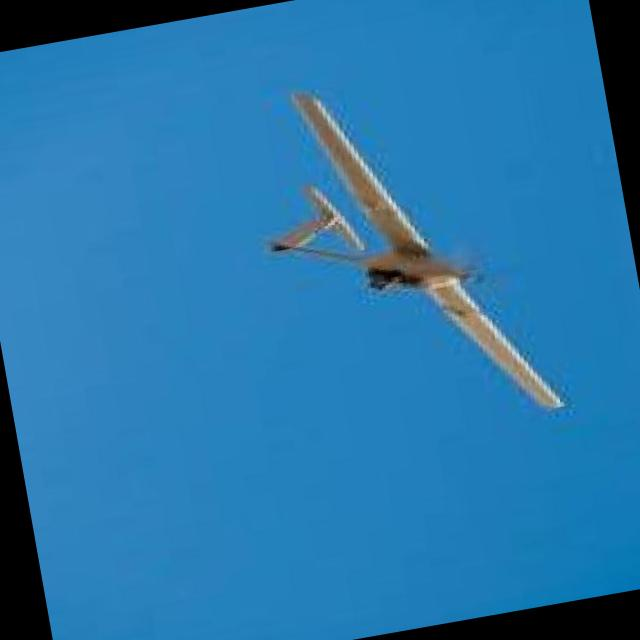UAV: (270, 68, 533, 422)
